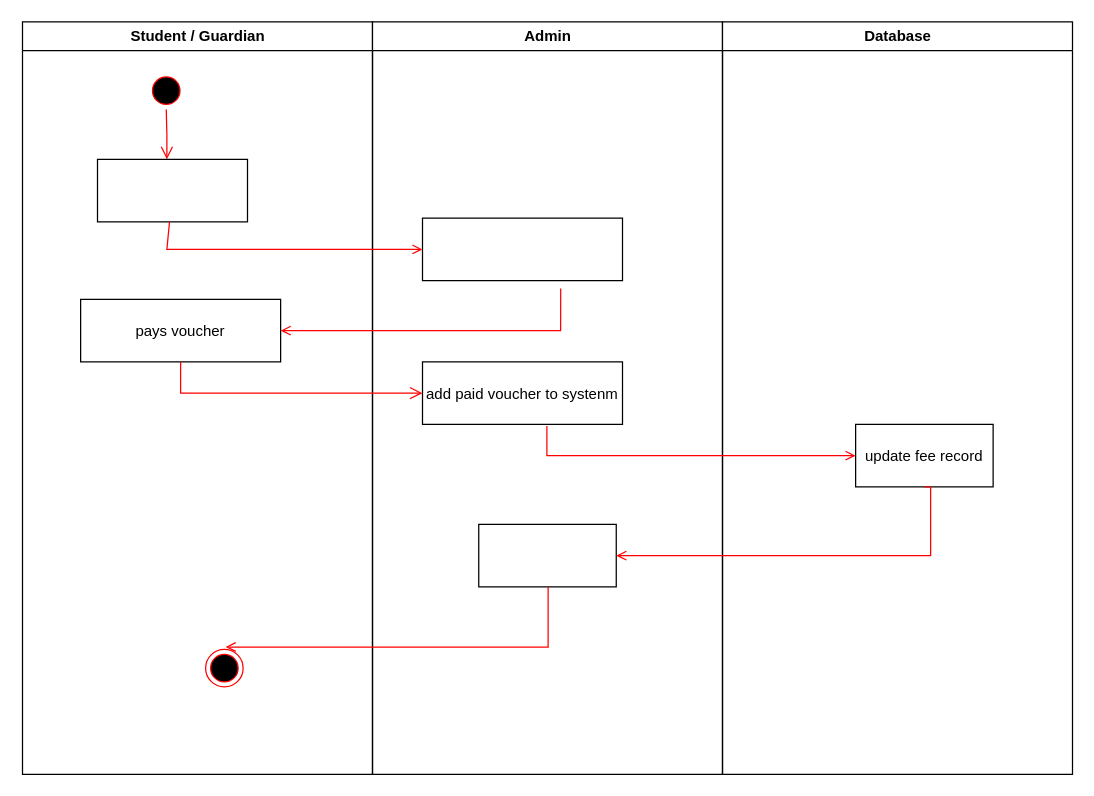
Some shapes in this 1094 by 796 pixel diagram are drawn without their labels. The centre of each missing label's shape, as x and y in pixels:
ask for fee voucher: (172,190)
gives fee voucher: (521,249)
send notification: (547,555)
